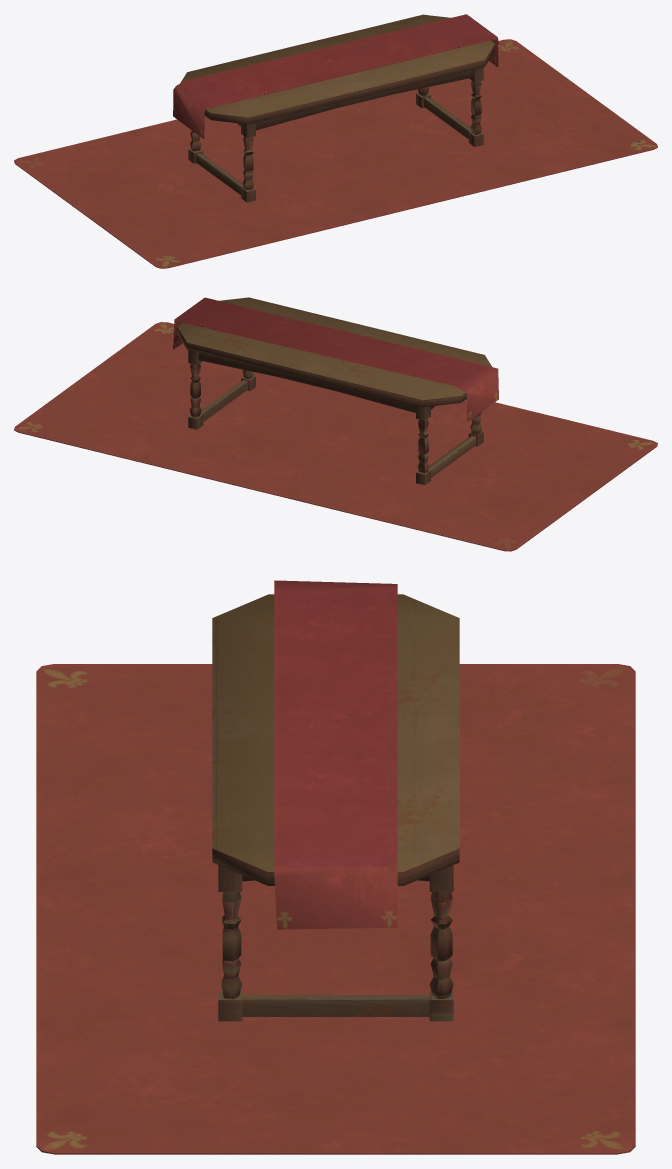
Rendered from FUR0210031.fbx.
The picture shows the model from 3 angles, top to bottom: view 1: azimuth 30°, elevation 25°; view 2: azimuth 150°, elevation 25°; view 3: azimuth 270°, elevation 25°; orthographic projection. The views are drawn at different scales.
Visible parts, largest first — view 1: smFUR0210031; view 2: smFUR0210031; view 3: smFUR0210031.
Boxes of the visible parts, left/top/right/bottom form: smFUR0210031: left=14, top=14, right=657, bottom=268; smFUR0210031: left=14, top=297, right=657, bottom=551; smFUR0210031: left=36, top=580, right=635, bottom=1154.
Bounding box in the file's own units: 595 × 108 × 308.
Materials: 1 (1 with a texture image).
